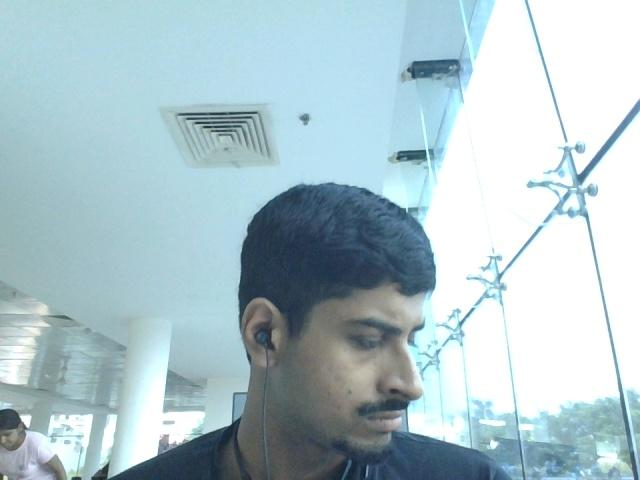average: (223, 183, 469, 472)
